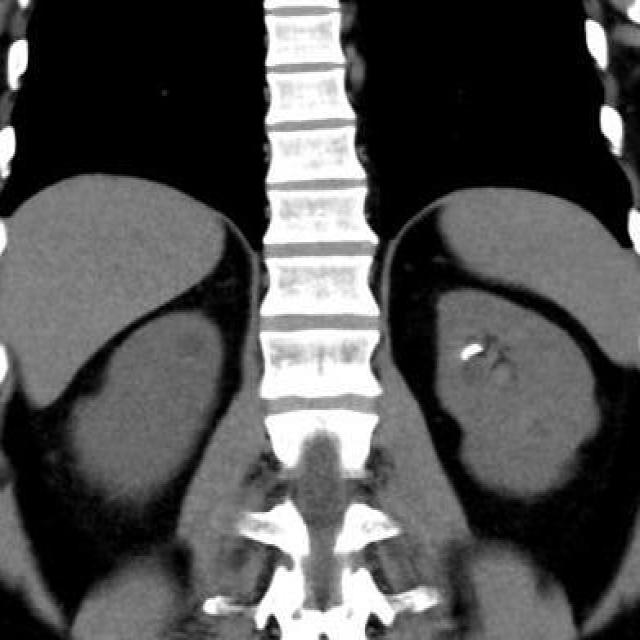Tas_Var: (456, 337, 485, 365)
